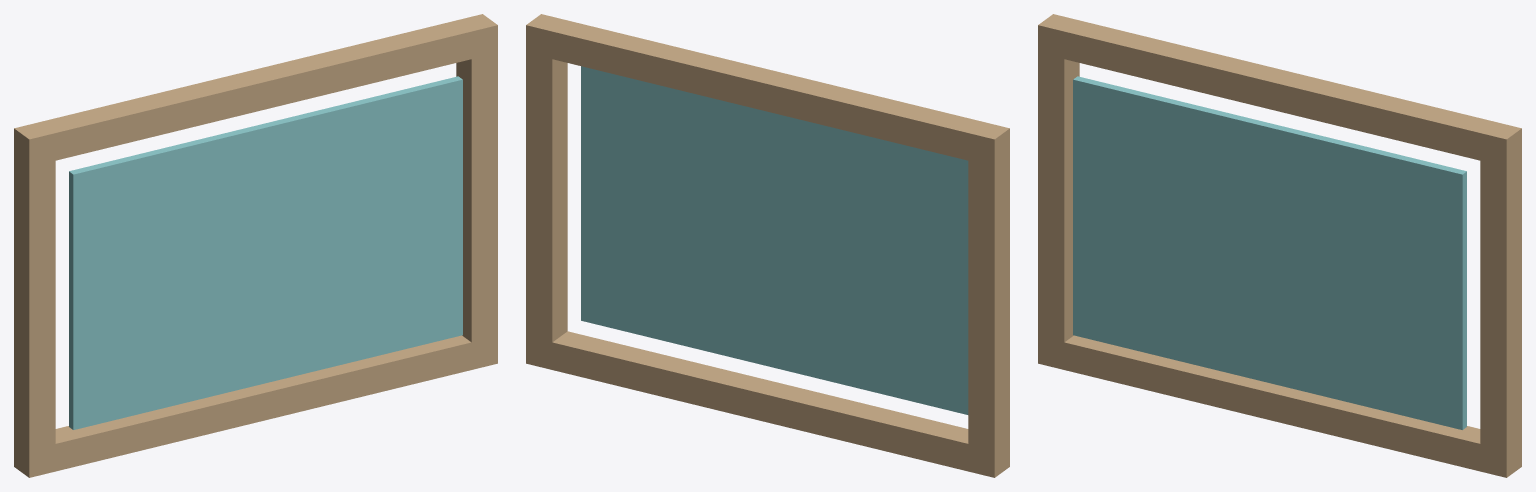
The model's file is art_frame_04.glb.
The picture shows the model from 3 angles, left to right: view 1: azimuth 30°, elevation 25°; view 2: azimuth 150°, elevation 25°; view 3: azimuth 330°, elevation 25°; orthographic projection.
Parts seen in each view (by area): view 1: art, h0.45, h0, v-0.335, v0.335; view 2: art, h0.45, h0, v-0.335, v0.335; view 3: art, h0.45, h0, v0.335, v-0.335.
Part boxes in pixels (box(x1,y1,x2,y2)): art: box(69, 76, 462, 429); h0.45: box(14, 14, 497, 166); h0: box(14, 335, 497, 477); v-0.335: box(14, 142, 55, 460); v0.335: box(456, 39, 497, 355); art: box(581, 66, 968, 414); h0.45: box(526, 14, 1009, 166); h0: box(526, 331, 1009, 477); v-0.335: box(968, 142, 1009, 463); v0.335: box(526, 39, 567, 355); art: box(1073, 76, 1466, 429); h0.45: box(1038, 14, 1521, 166); h0: box(1038, 335, 1521, 477); v0.335: box(1480, 142, 1521, 462); v-0.335: box(1038, 39, 1079, 355).
Bounding box in the file's own units: 0.71 × 0.49 × 0.052.
